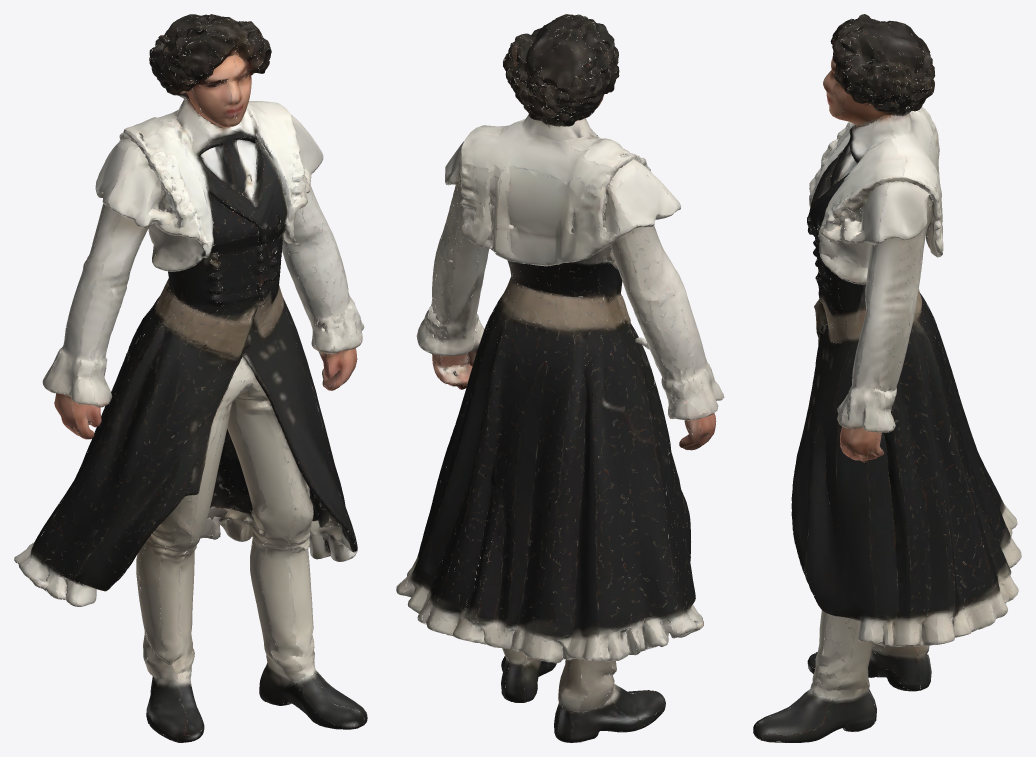
File: char_actor_m.glb
3 renders of one model, left to right at view 1: azimuth 30°, elevation 25°; view 2: azimuth 150°, elevation 25°; view 3: azimuth 270°, elevation 25°, orthographic. The views are drawn at different scales.
Parts seen in each view (by area): view 1: geometry_0; view 2: geometry_0; view 3: geometry_0.
Part boxes in pixels (x1=…): geometry_0: x1=14, y1=14, x2=367, y2=742; geometry_0: x1=396, y1=14, x2=724, y2=742; geometry_0: x1=753, y1=14, x2=1021, y2=742.
Bounding box in the file's own units: 0.8373 × 1.8 × 0.6496.
1 material, 1 textured.
